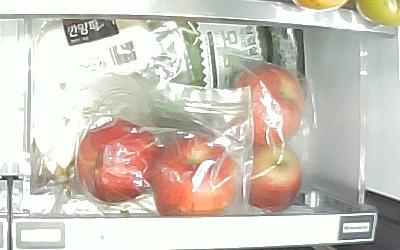apple_vinyl: (151, 137, 240, 216), (75, 118, 158, 201), (227, 63, 307, 147), (237, 145, 305, 210)
